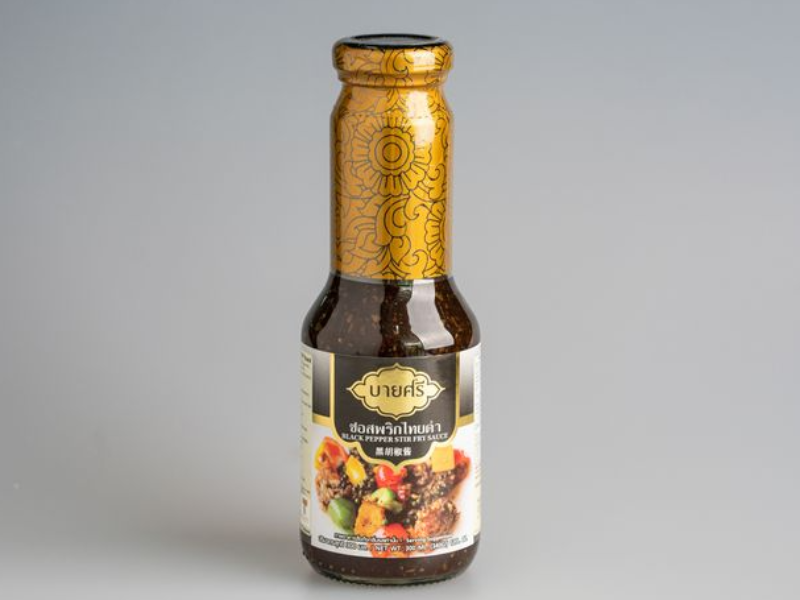glass_bottle: (284, 22, 496, 596)
